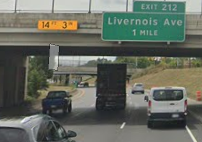1: (40, 20, 45, 29)
3: (60, 20, 69, 29)
4: (44, 20, 50, 29)
overheadsign: (36, 18, 77, 30)
